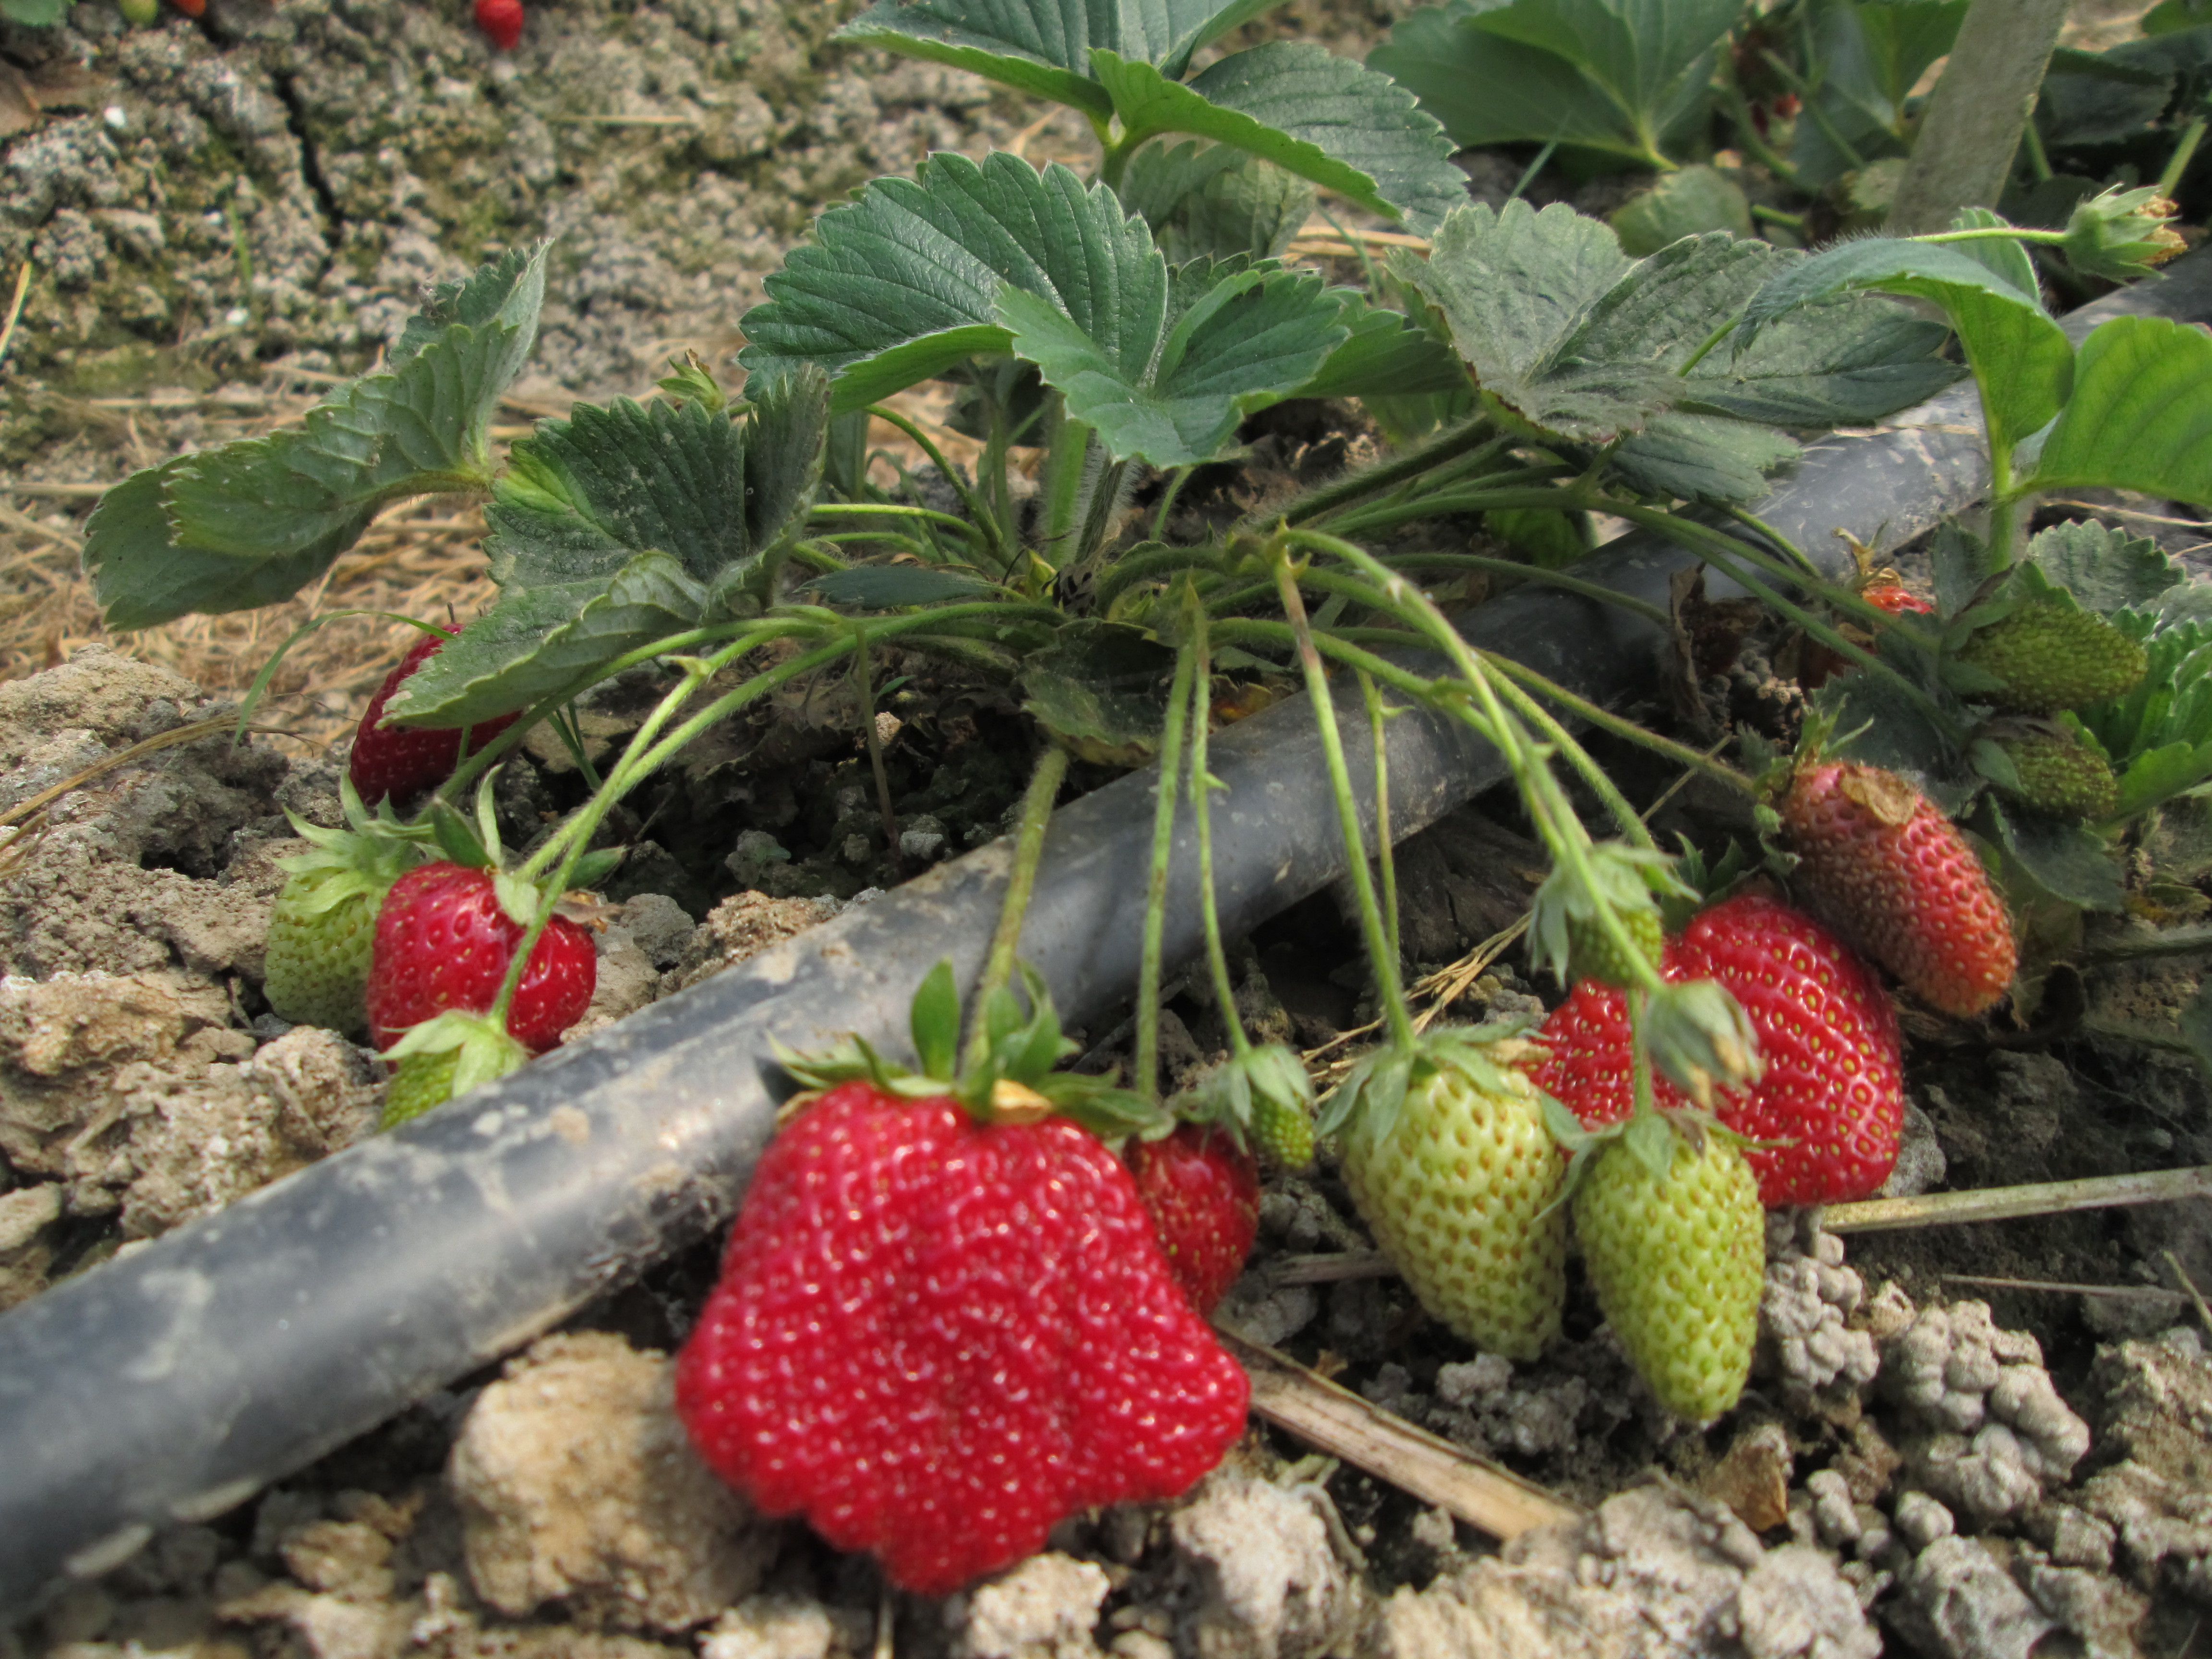StrawberryCone: (368, 857, 597, 1047), (345, 612, 535, 816)
StrawberryIrremovable: (1332, 1042, 1573, 1364), (1770, 748, 2026, 1021), (1576, 1119, 1777, 1431), (261, 831, 423, 1033), (1968, 592, 2160, 711), (1526, 847, 1672, 997), (1963, 716, 2134, 826), (381, 1014, 521, 1136), (1221, 1047, 1322, 1162)
StrawberryOther: (1113, 1101, 1264, 1323)
StrawberryRemovable: (674, 1072, 1258, 1600), (1526, 887, 1911, 1199), (369, 859, 596, 1044), (350, 615, 531, 809), (1118, 1107, 1264, 1323)
StrawberryWedge: (669, 1068, 1259, 1596), (1524, 882, 1911, 1199)
